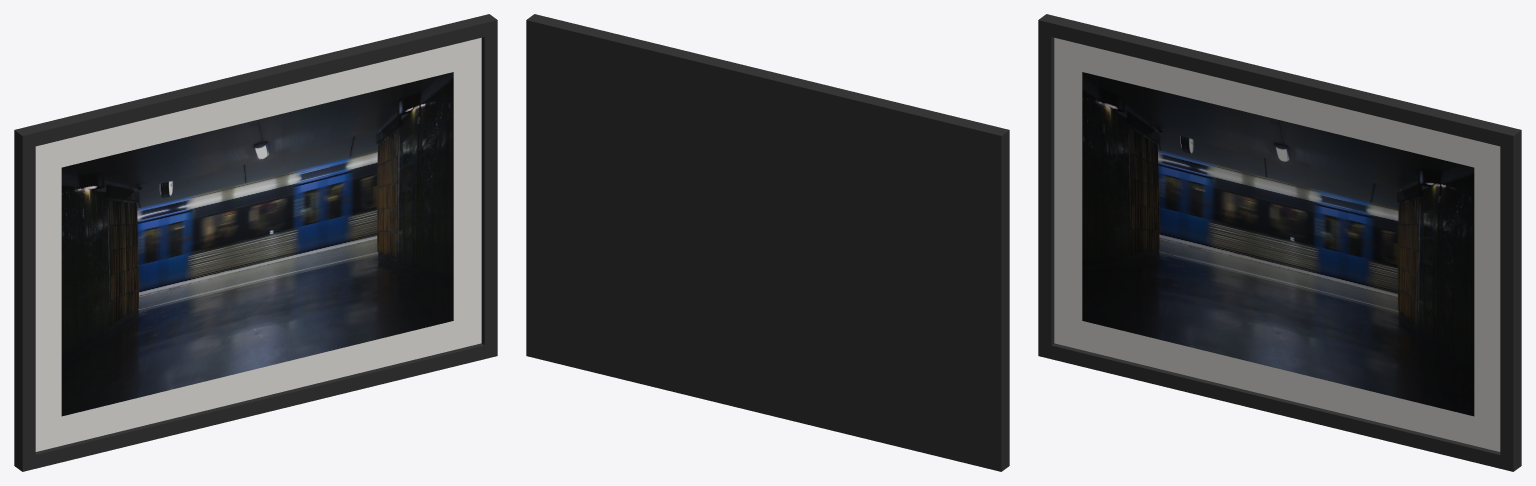
The model's file is taget-60.gltf.
The picture shows the model from 3 angles, left to right: view 1: azimuth 30°, elevation 25°; view 2: azimuth 150°, elevation 25°; view 3: azimuth 330°, elevation 25°; orthographic projection.
Visible parts, largest first — view 1: tavla; view 2: tavla; view 3: tavla.
Part boxes in pixels (box(x1,y1,x2,y2)): tavla: box(14, 14, 497, 471); tavla: box(526, 14, 1009, 471); tavla: box(1038, 14, 1521, 471).
Size of the model in its own units: 0.7274 by 0.4914 by 0.022.
3 materials, 1 textured.
